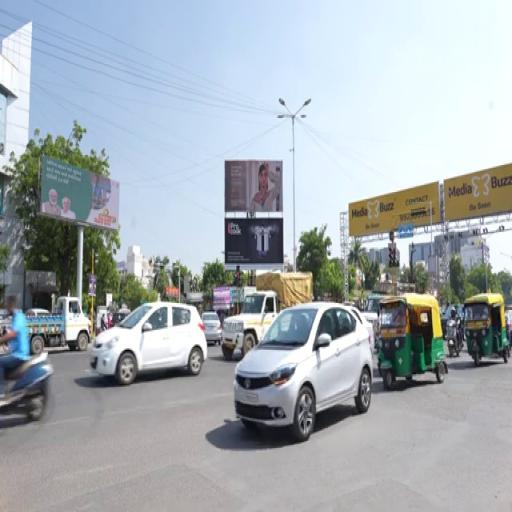Car: (234, 302, 372, 442), (91, 302, 207, 385), (351, 308, 374, 347), (203, 312, 221, 344), (26, 309, 50, 318)
